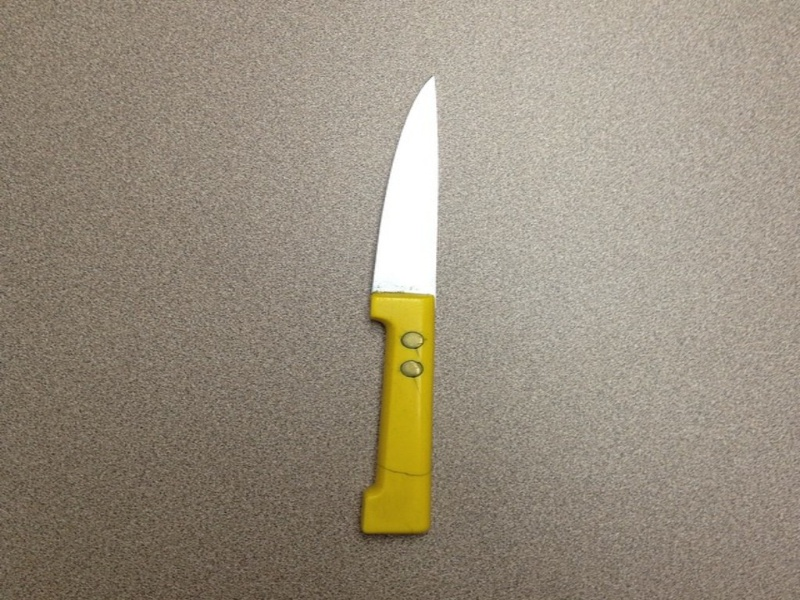knife: (179, 426, 627, 600)
